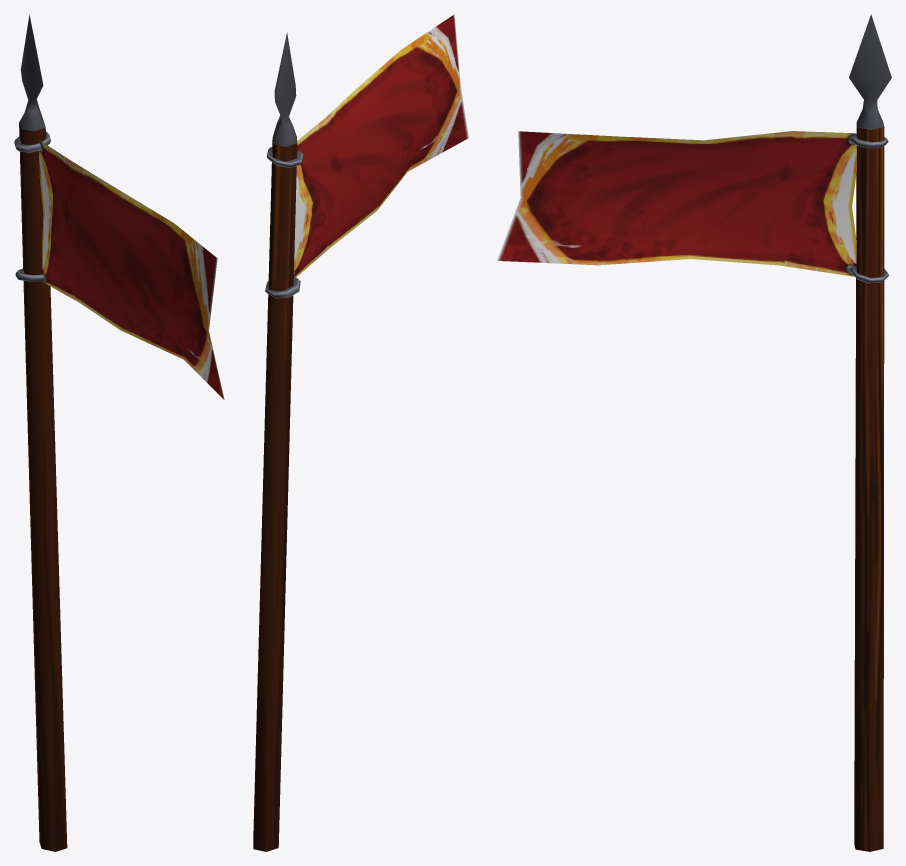
File: SM_PROP_flag_06.glb
3 views of the same model, side by side, from view 1: azimuth 30°, elevation 25°; view 2: azimuth 150°, elevation 25°; view 3: azimuth 270°, elevation 25° (orthographic).
Visible parts, largest first — view 1: SM_PROP_flag_06_EXPORT; view 2: SM_PROP_flag_06_EXPORT; view 3: SM_PROP_flag_06_EXPORT.
Part boxes in pixels (x1,y1,x2,y2): SM_PROP_flag_06_EXPORT: (14,14,224,851); SM_PROP_flag_06_EXPORT: (253,14,468,851); SM_PROP_flag_06_EXPORT: (497,14,891,851).
Bounding box in the file's own units: 0.4065 × 6.56 × 2.86.
3 materials, 3 textured.
